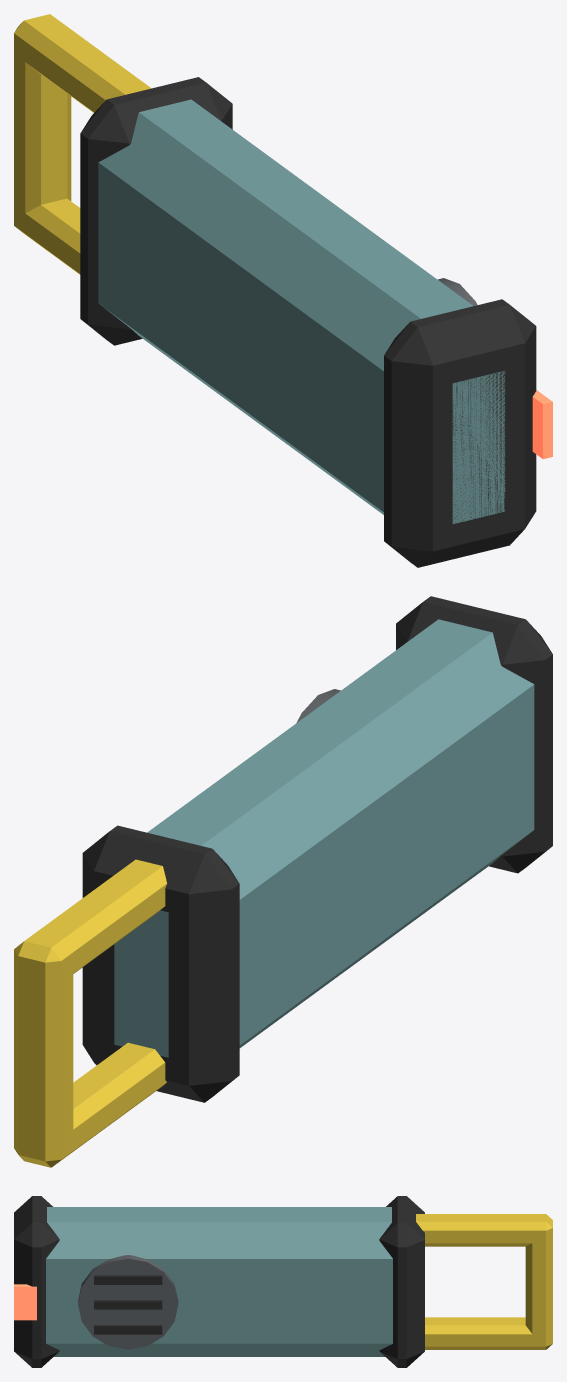
Rendered from weapon_decoy_beacon.glb.
3 views of the same model, one above another, from view 1: azimuth 30°, elevation 25°; view 2: azimuth 150°, elevation 25°; view 3: azimuth 270°, elevation 25° (orthographic). The views are drawn at different scales.
Visible parts, largest first — view 1: weapon_decoy_beacon; view 2: weapon_decoy_beacon; view 3: weapon_decoy_beacon.
Boxes of the visible parts, <box> form: weapon_decoy_beacon: <box>14,14,552,567</box>; weapon_decoy_beacon: <box>14,596,552,1167</box>; weapon_decoy_beacon: <box>14,1196,552,1367</box>.
Bounding box in the file's own units: 0.0465 × 0.07 × 0.236.
